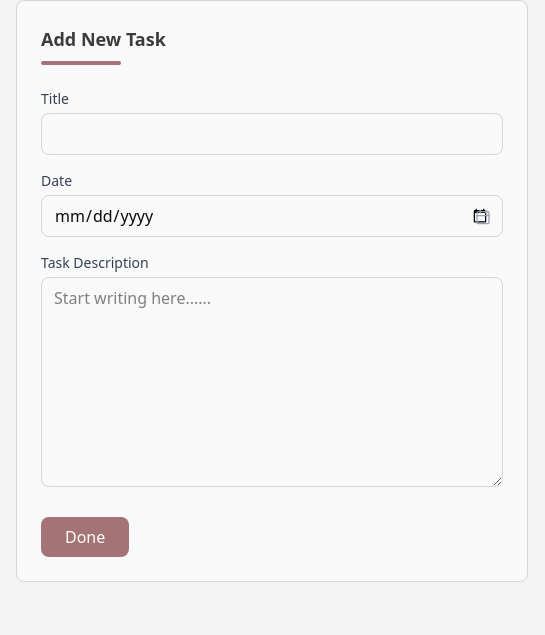
it: AddTaskForm › shows error when submitting with an empty title
Click the button "Done".
click(85, 537)  # box [41,517,129,557]
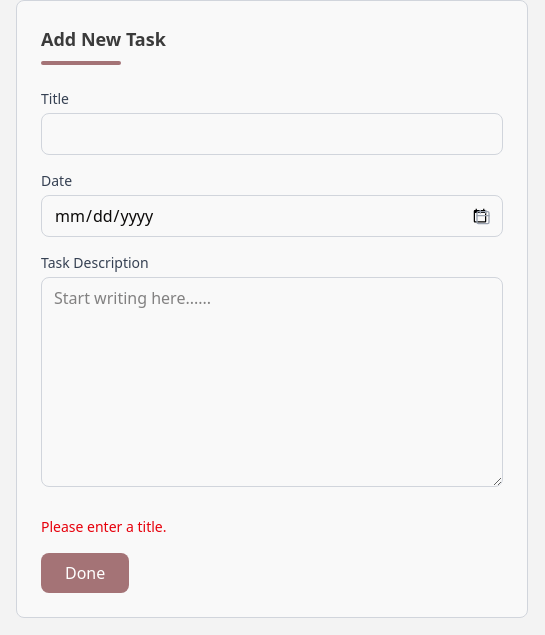
Now the text "Please enter a title." is shown, box [41,517,166,536]
